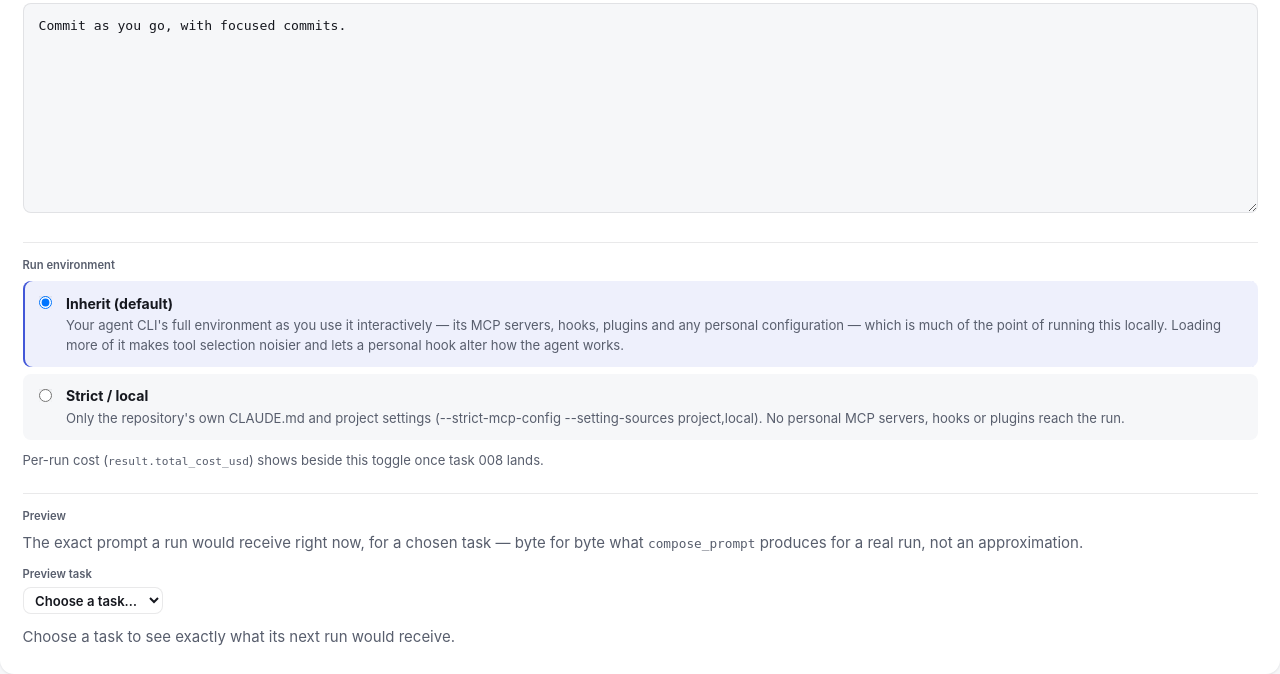
Test: InstructionsSection › ignores a stale preview response that resolves after a later selection's
The image size is (1280, 674).
(page scrolled)
Select "Wire the board" in the dropdown labelled "Preview task" at (92, 601), box [22,587,162,614]
(page scrolled)
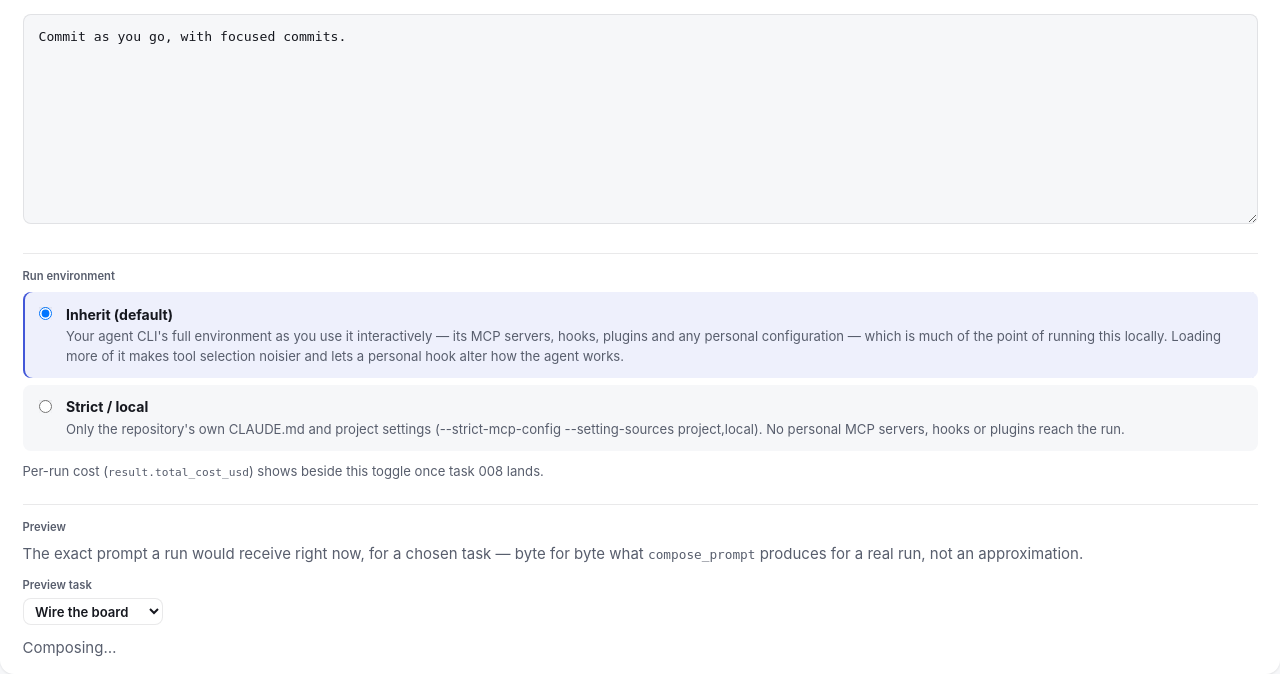
Select "Add parser" in the dropdown labelled "Preview task" at (92, 612), box [22,598,162,625]
(page scrolled)
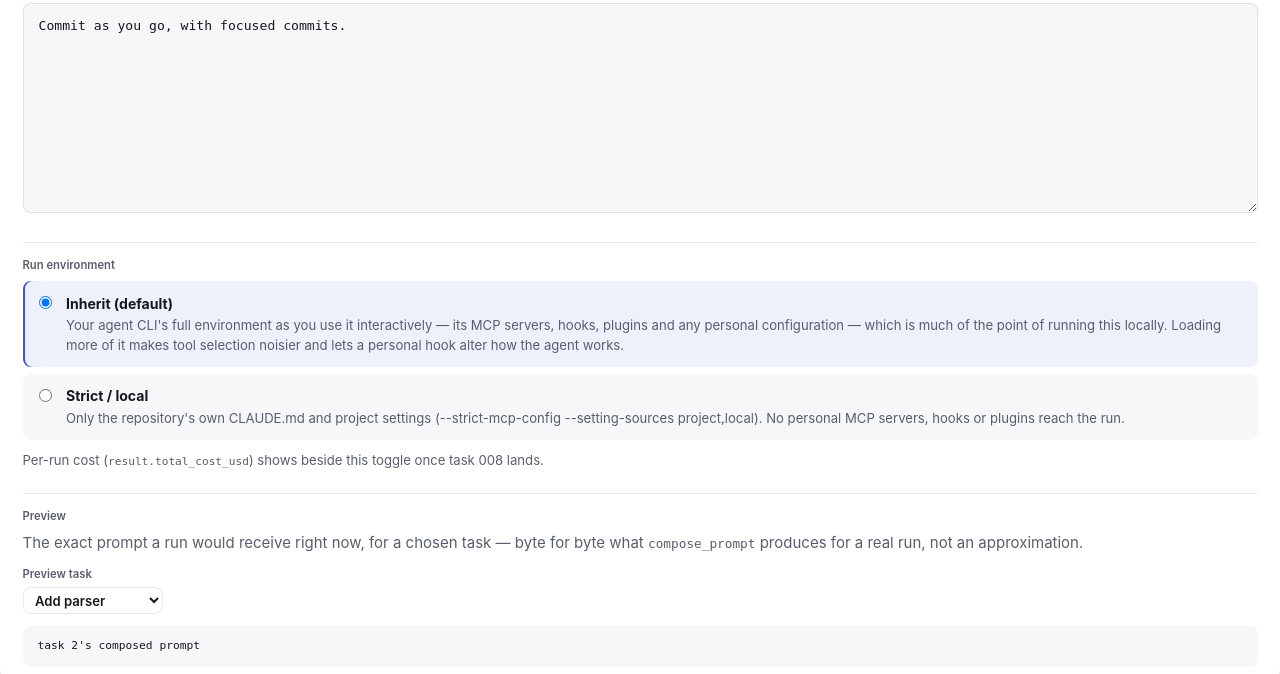
Check: the text "task 2's composed prompt" is shown, box [22,626,1258,667]
